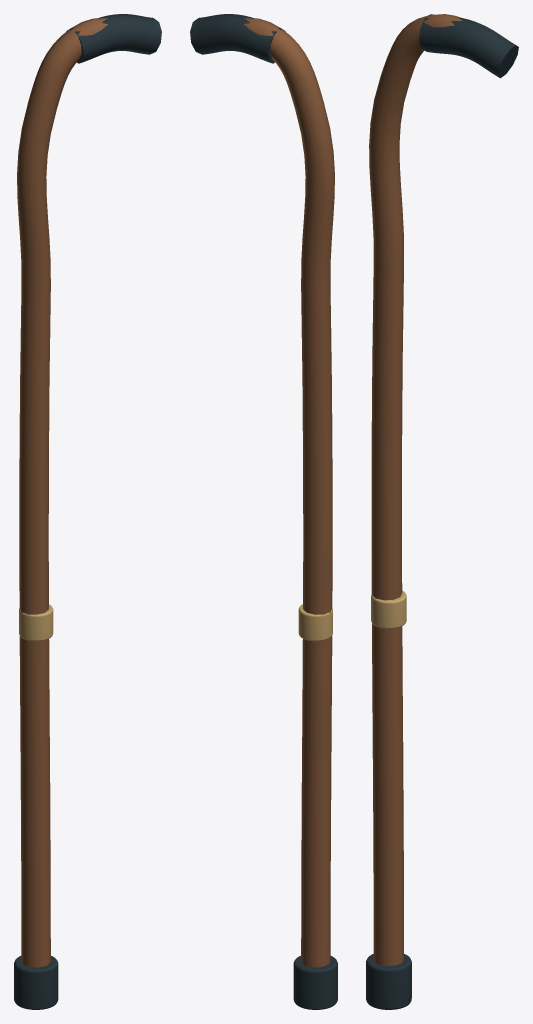
The model's file is WalkingCane.fbx.
3 views of the same model, side by side, from view 1: azimuth 30°, elevation 25°; view 2: azimuth 150°, elevation 25°; view 3: azimuth 330°, elevation 25° (orthographic). The views are drawn at different scales.
Parts seen in each view (by area): view 1: Surface_KKTC_Wood, Surface_KKTC_Rubber, Surface_KKTC_Brass; view 2: Surface_KKTC_Wood, Surface_KKTC_Rubber, Surface_KKTC_Brass; view 3: Surface_KKTC_Wood, Surface_KKTC_Rubber, Surface_KKTC_Brass.
Boxes of the visible parts, left/top/right/bottom form: Surface_KKTC_Wood: left=17, top=18, right=107, bottom=967; Surface_KKTC_Rubber: left=14, top=14, right=161, bottom=1009; Surface_KKTC_Brass: left=19, top=604, right=53, bottom=641; Surface_KKTC_Wood: left=244, top=18, right=334, bottom=967; Surface_KKTC_Rubber: left=190, top=14, right=337, bottom=1009; Surface_KKTC_Brass: left=298, top=604, right=332, bottom=641; Surface_KKTC_Wood: left=369, top=14, right=462, bottom=965; Surface_KKTC_Rubber: left=366, top=14, right=518, bottom=1009; Surface_KKTC_Brass: left=371, top=590, right=406, bottom=628.
Size of the model in its own units: 13.04 by 86.52 by 3.6.
